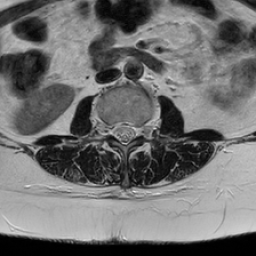CCS_normal: (118, 114, 128, 153)
LFS_normal: (136, 114, 145, 144)
LLS_normal: (128, 114, 136, 148)
RFS_normal: (102, 114, 110, 142)
RLS_normal: (110, 115, 118, 147)
